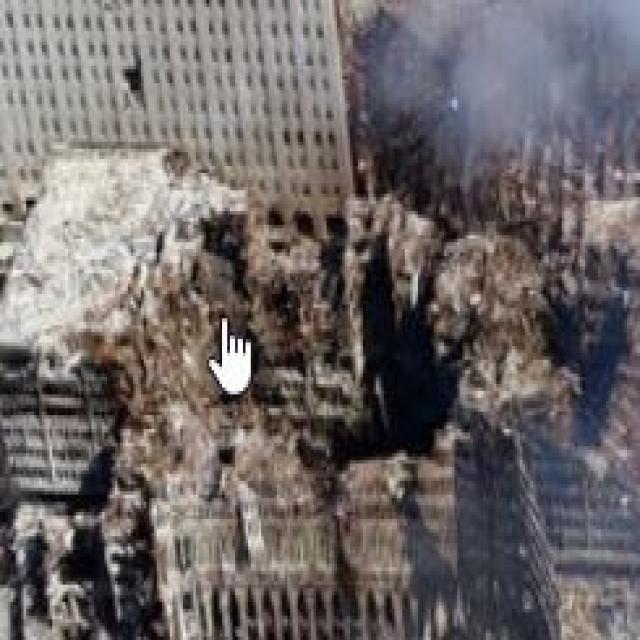collapsed_building: (50, 152, 632, 637)
